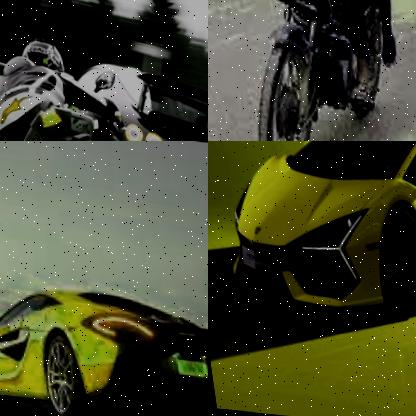bike: (217, 0, 399, 141), (0, 99, 162, 141)
car: (208, 141, 416, 331), (0, 274, 208, 416), (89, 59, 208, 141)
